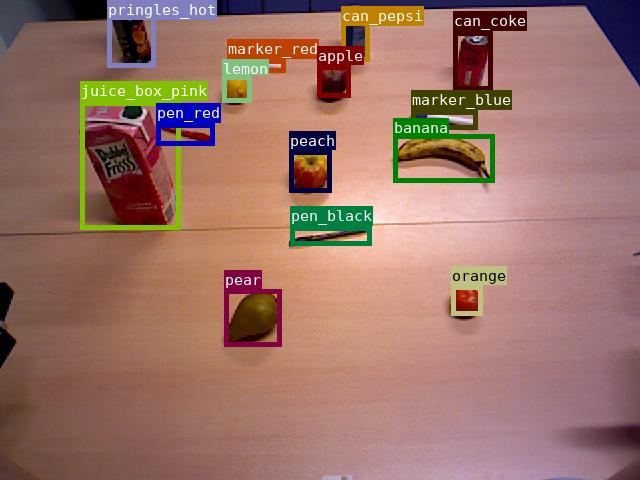apple: (317, 65, 350, 97)
banana: (393, 134, 494, 182)
can_coke: (453, 31, 492, 90)
can_pepsi: (341, 6, 369, 61)
juice_box_pink: (80, 101, 180, 229)
lemon: (222, 75, 251, 102)
marker_blue: (411, 110, 477, 129)
marker_red: (227, 59, 285, 72)
orange: (451, 285, 482, 315)
peach: (289, 150, 331, 192)
pear: (224, 289, 281, 346)
pen_black: (290, 226, 371, 245)
pen_red: (156, 123, 214, 145)
pringles_hot: (107, 0, 155, 67)
